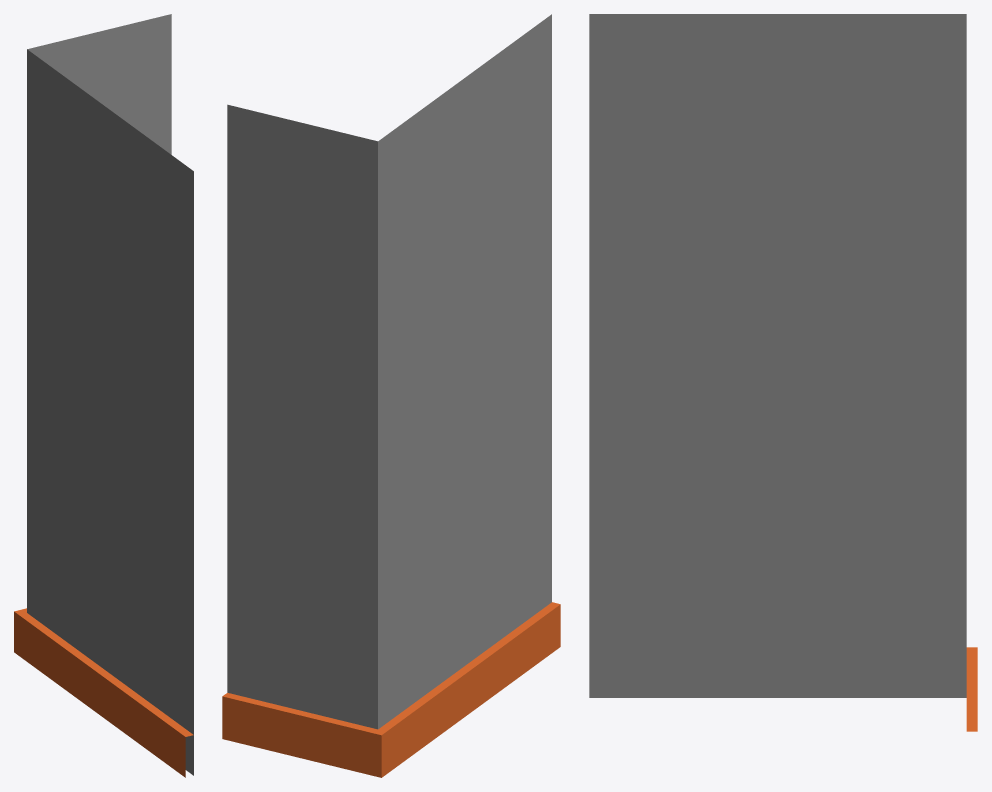
Rendered from ModuleD_corner_inver3.FBX.
3 views of the same model, side by side, from view 1: azimuth 30°, elevation 25°; view 2: azimuth 150°, elevation 25°; view 3: azimuth 270°, elevation 25° (orthographic). The views are drawn at different scales.
Parts seen in each view (by area): view 1: ModuleD_wall_06, ModuleD_skboard_08; view 2: ModuleD_wall_06, ModuleD_skboard_08; view 3: ModuleD_wall_06, ModuleD_skboard_08.
Boxes of the visible parts, box(x1,y1,x2,y2) form: ModuleD_wall_06: box(27, 14, 193, 775); ModuleD_skboard_08: box(14, 608, 193, 777); ModuleD_wall_06: box(227, 14, 551, 729); ModuleD_skboard_08: box(222, 602, 560, 777); ModuleD_wall_06: box(589, 14, 966, 697); ModuleD_skboard_08: box(966, 647, 977, 731).
Bounding box in the file's own units: 20.83 × 40.52 × 78.74.
